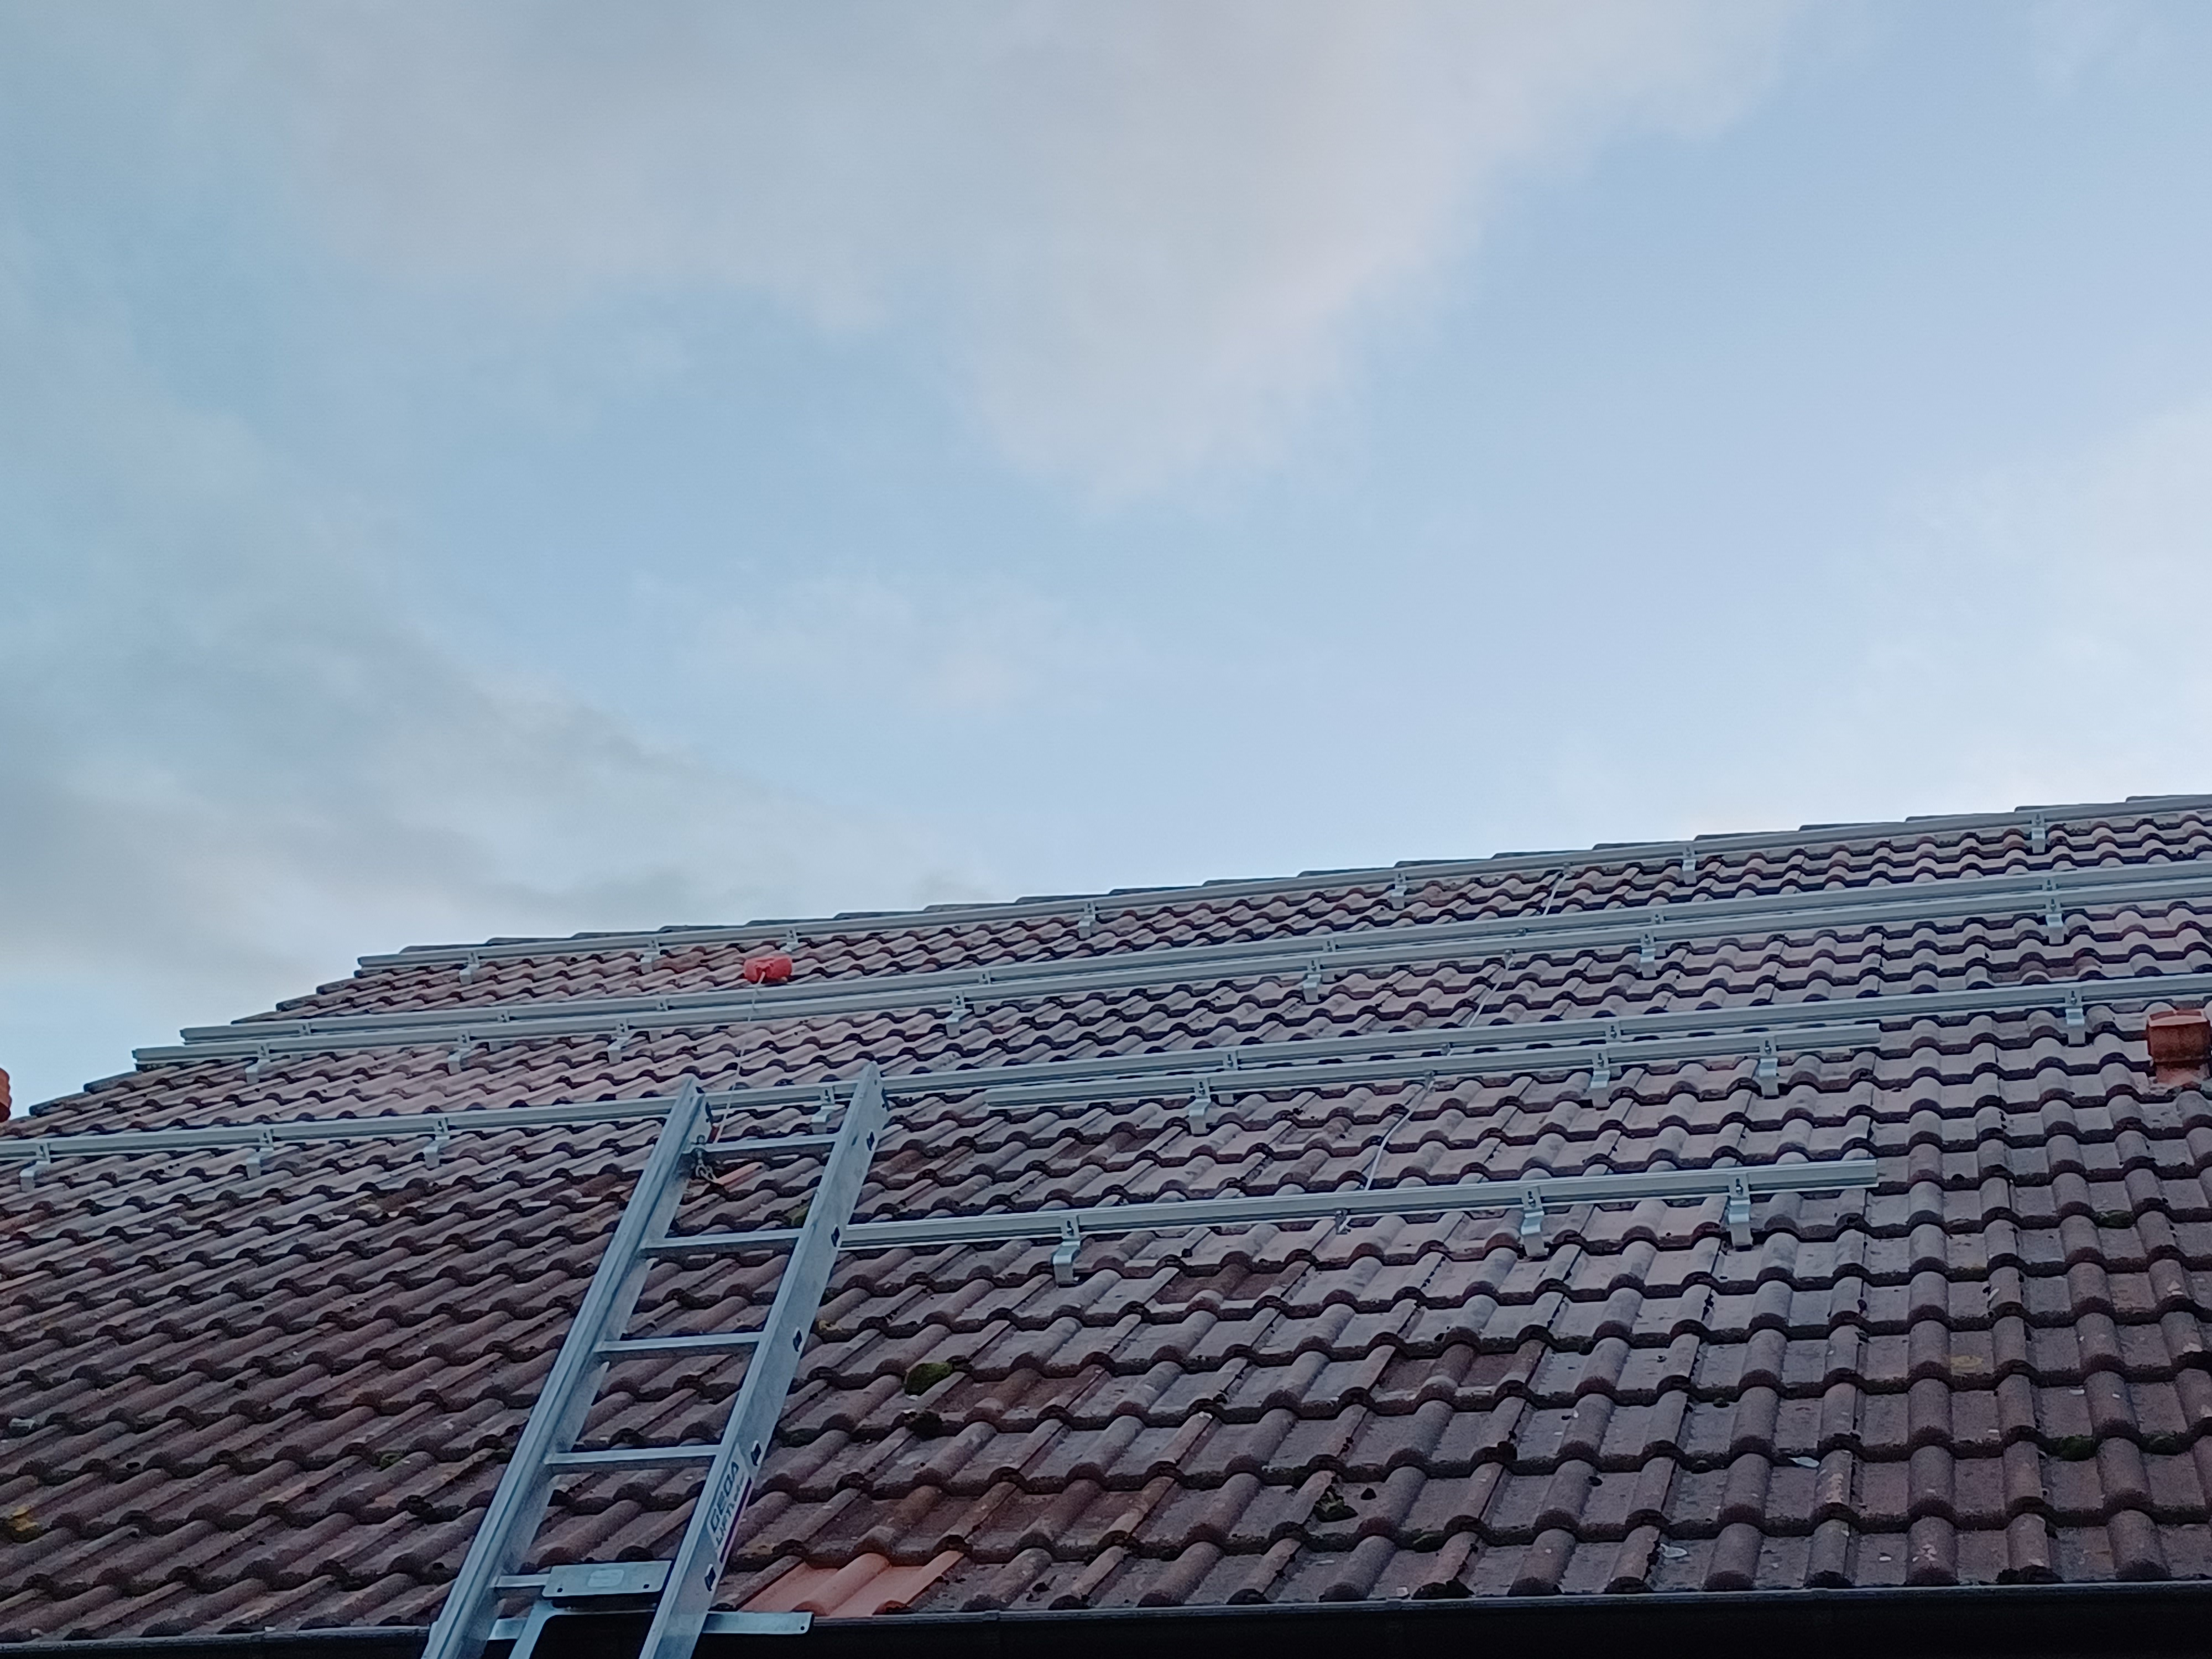hook: (1052, 1215, 1080, 1286), (1521, 1185, 1548, 1256), (1726, 1171, 1752, 1246), (19, 1141, 51, 1192), (246, 1129, 273, 1180), (423, 1117, 449, 1168), (1757, 1033, 1778, 1096), (1190, 1077, 1212, 1134), (2064, 985, 2085, 1044), (812, 1086, 836, 1134), (1590, 1049, 1609, 1108), (1217, 1051, 1238, 1105), (606, 1019, 631, 1065), (1604, 1019, 1623, 1077), (944, 990, 967, 1037), (448, 1030, 470, 1075), (246, 1044, 270, 1084), (2045, 894, 2064, 945), (648, 997, 669, 1042), (1639, 929, 1658, 978), (489, 1009, 510, 1053), (287, 1021, 310, 1061), (1303, 957, 1322, 1004), (972, 971, 991, 1014), (458, 950, 481, 985), (1076, 901, 1096, 939), (641, 938, 660, 974), (1322, 939, 1338, 981), (1392, 870, 1407, 910), (2031, 810, 2045, 854), (1683, 843, 1696, 885), (780, 927, 798, 953), (1651, 910, 1665, 925), (2043, 877, 2055, 892)
